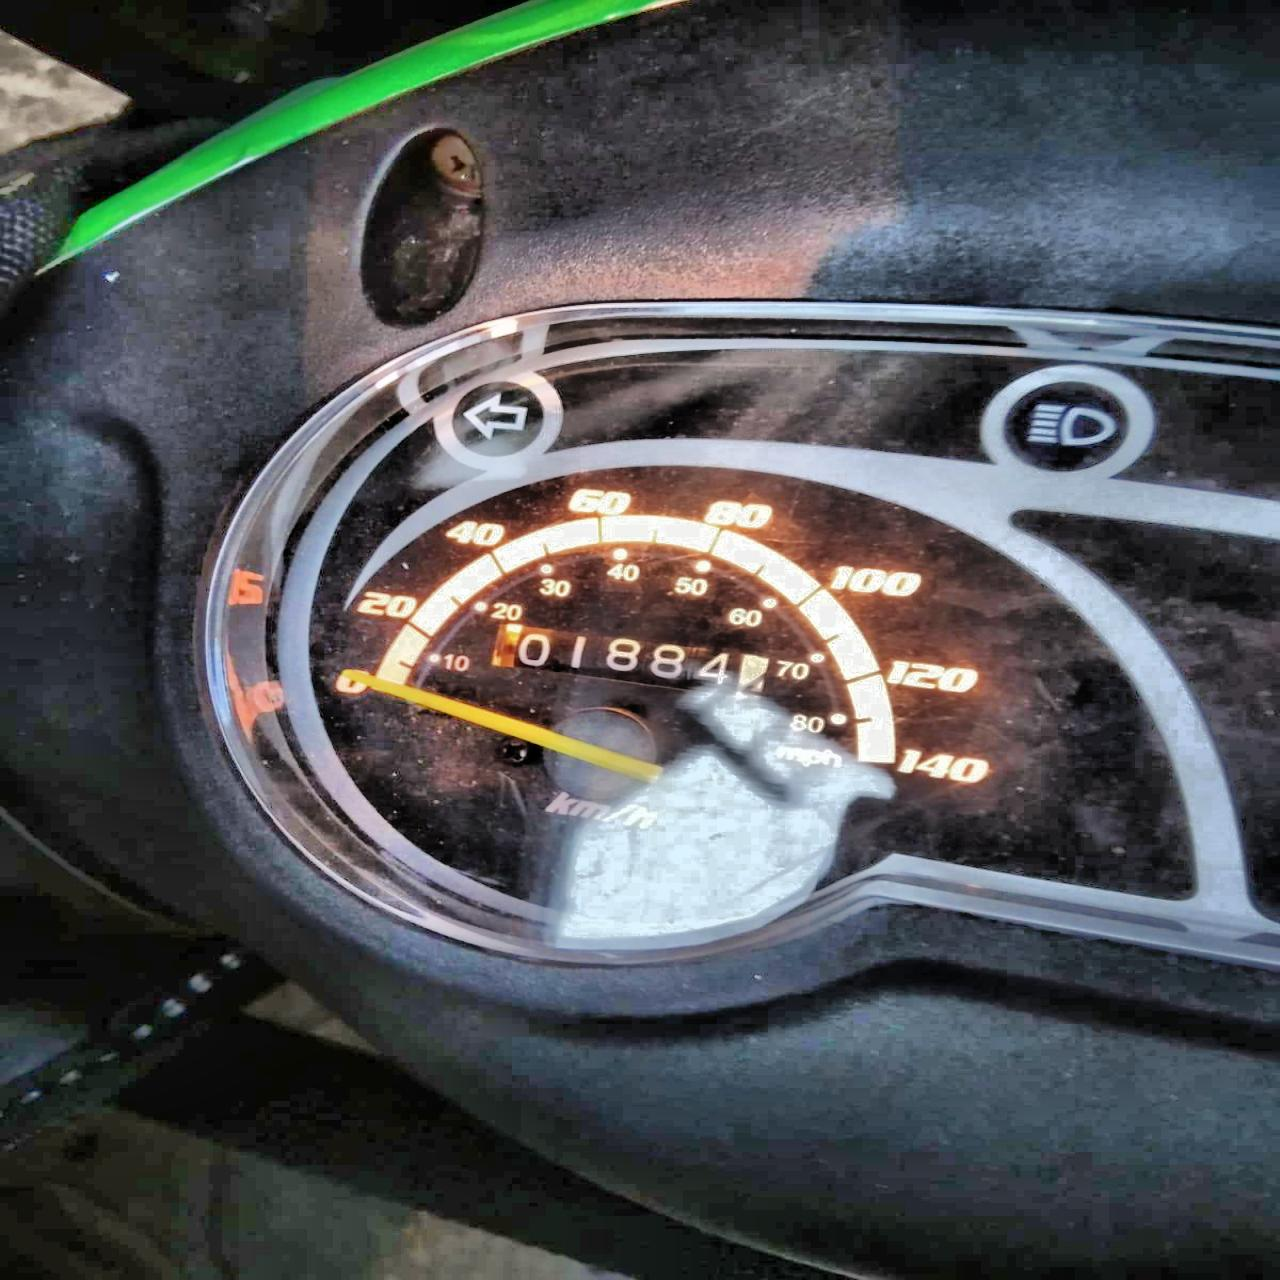0: (517, 632, 550, 667)
1: (566, 633, 588, 668)
4: (695, 648, 729, 686), (741, 667, 768, 701)
8: (649, 641, 687, 679), (606, 636, 640, 672)
odometer: (490, 620, 771, 704)
